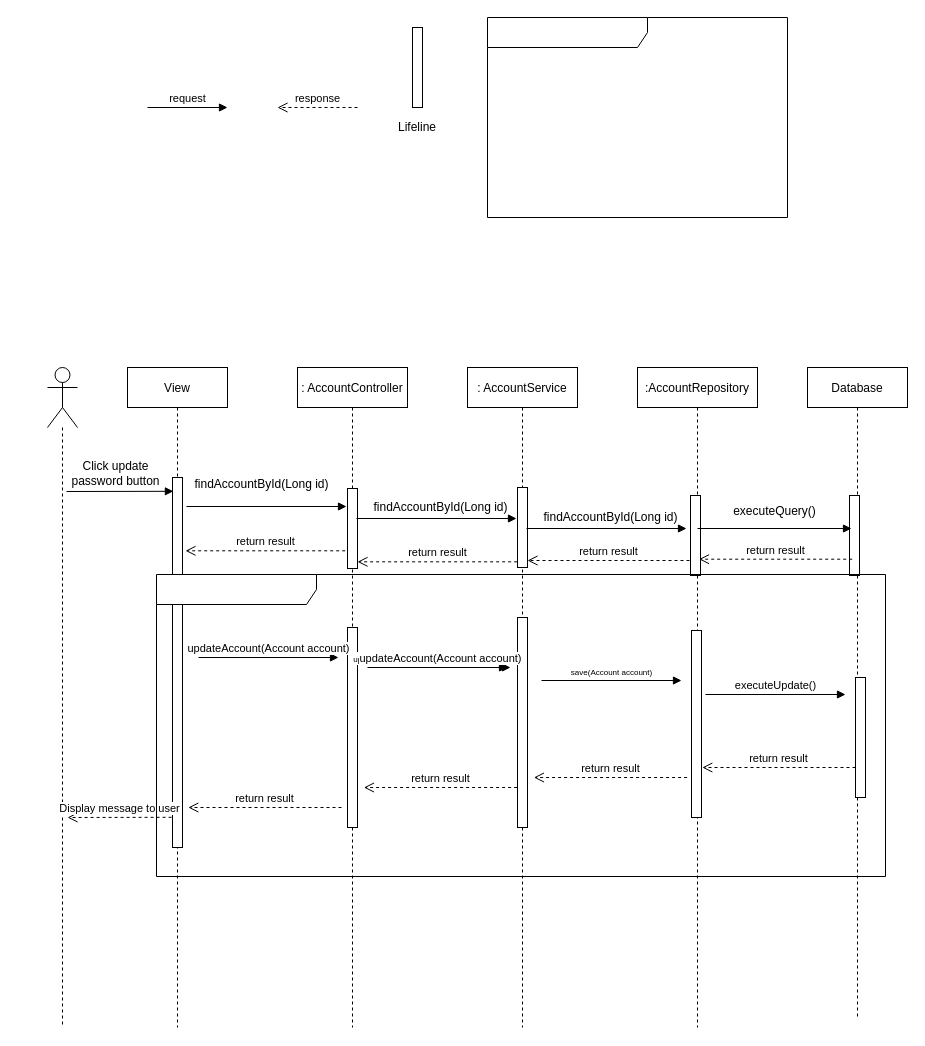
This 925x1046 diagram has some shape labels left out. Each missing label, with the box of its shape:
Admin/Employee: (46, 366, 78, 428)
alternative: (486, 16, 788, 218)
Verify update information: (156, 574, 886, 876)
